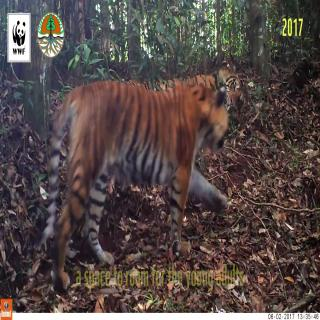Tiger: (45, 68, 255, 256)
